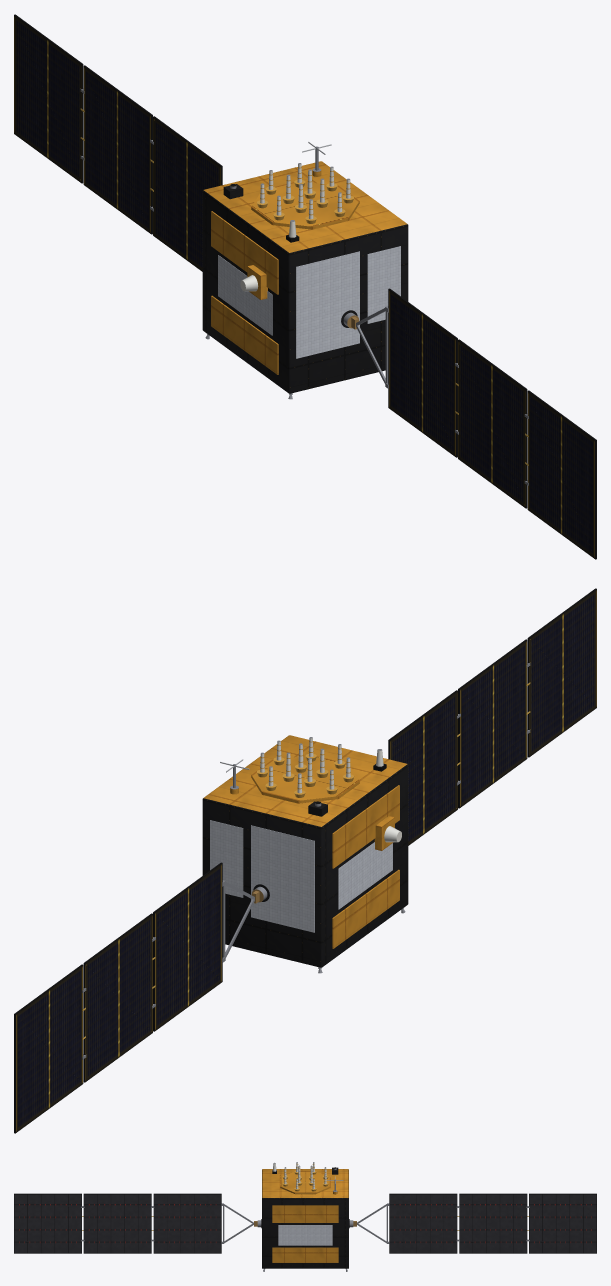
Rendered from gps-iif.glb.
3 views of the same model, one above another, from view 1: azimuth 30°, elevation 25°; view 2: azimuth 150°, elevation 25°; view 3: azimuth 270°, elevation 25° (orthographic). The views are drawn at different scales.
Parts seen in each view (by area): view 1: wing-Y, bus, wing+Y, radiators_osr, lband_antenna_array, aux_antennas_sensors; view 2: wing+Y, bus, wing-Y, radiators_osr, lband_antenna_array, aux_antennas_sensors; view 3: wing+Y, wing-Y, bus, radiators_osr, lband_antenna_array.
Boxes of the visible parts, box(x1,y1,x2,y2) form: wing-Y: box(351, 288, 596, 559); bus: box(202, 161, 408, 393); wing+Y: box(14, 14, 222, 271); radiators_osr: box(218, 246, 400, 358); lband_antenna_array: box(257, 163, 353, 223); aux_antennas_sensors: box(223, 141, 331, 299); wing+Y: box(14, 862, 259, 1133); bus: box(202, 735, 408, 967); wing-Y: box(388, 588, 596, 845); radiators_osr: box(210, 820, 392, 932); lband_antenna_array: box(257, 737, 353, 797); aux_antennas_sensors: box(220, 749, 401, 850); wing+Y: box(353, 1193, 596, 1253); wing-Y: box(14, 1193, 257, 1253); bus: box(262, 1169, 348, 1268); radiators_osr: box(278, 1225, 332, 1245); lband_antenna_array: box(282, 1162, 328, 1191).
Size of the model in its own units: 2.3 by 2.87 by 16.63.
Materials: 14 (5 with a texture image).
